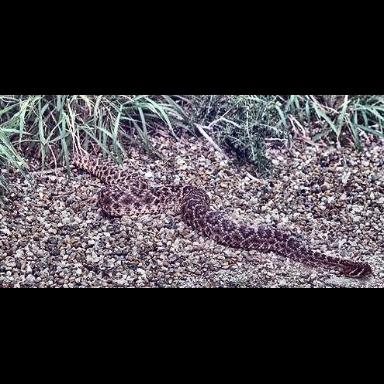snake: (71, 141, 372, 275)
